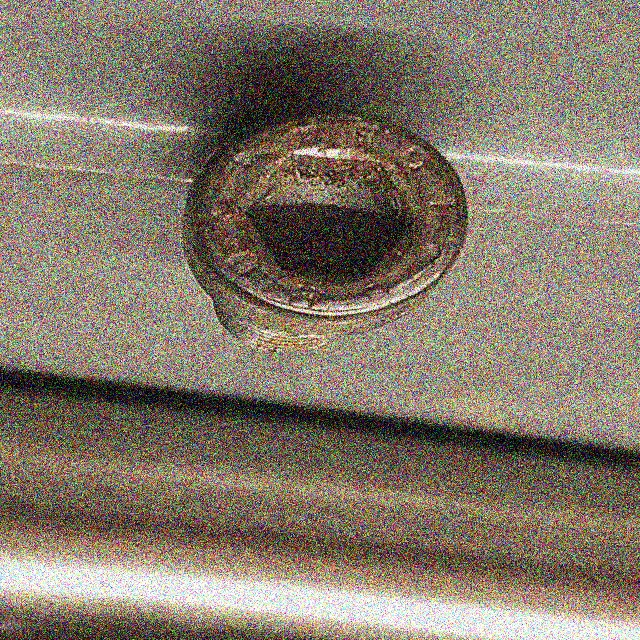allen: (181, 114, 468, 332)
